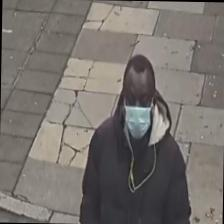person: (79, 53, 193, 224)
